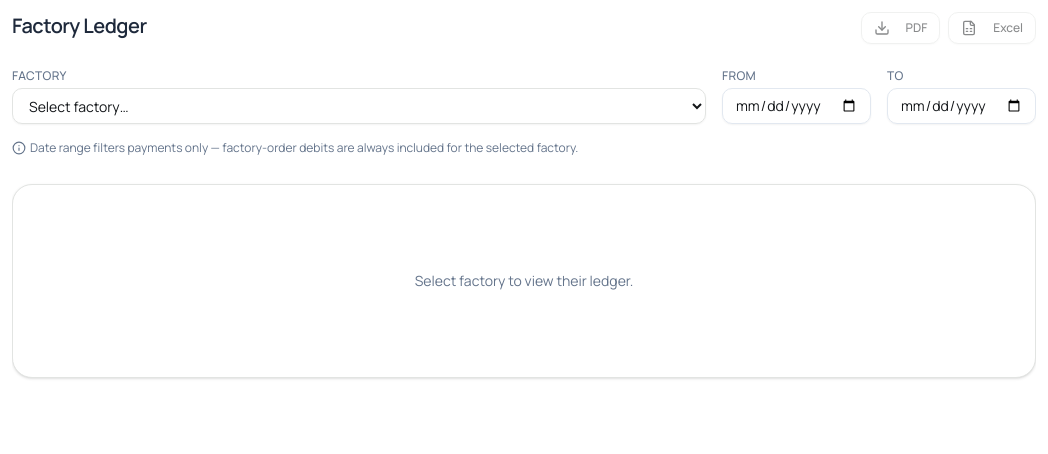
Test case: FactoryLedgerClient › surfaces an error banner on 403 from the ledger endpoint
Select "Acme CNY Inc" in the dropdown labelled "Factory" at {"x": 359, "y": 106}, box [12,88,706,124]
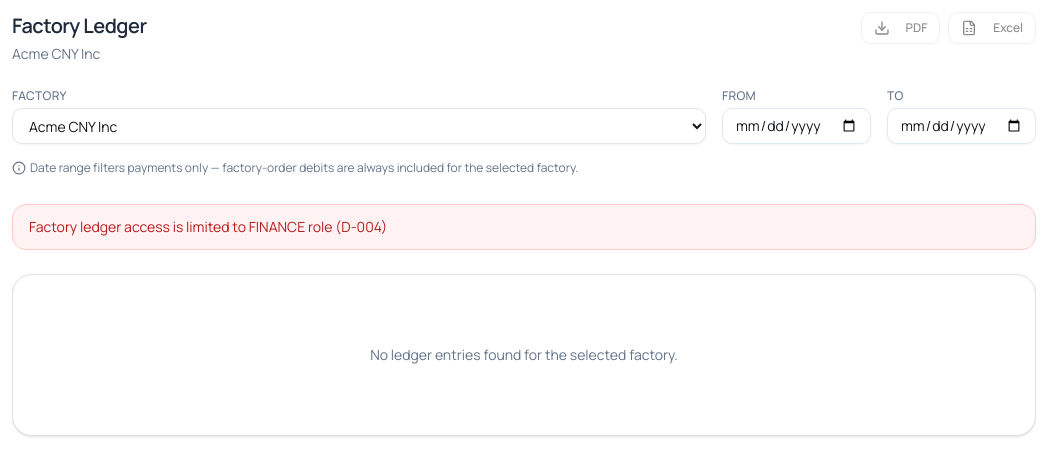
Result: the message shows "D-004" at [29,217,387,236]
